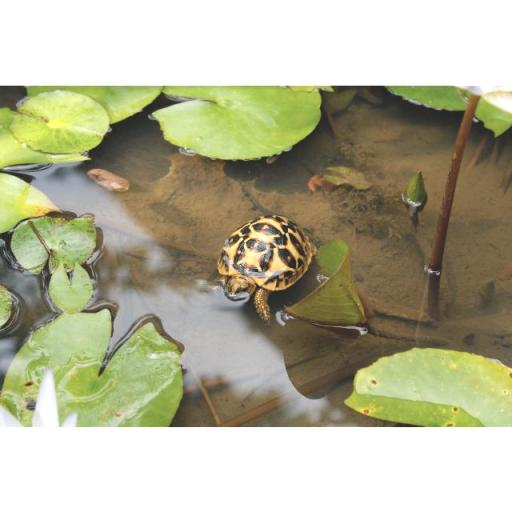turtle: (209, 214, 317, 322)
